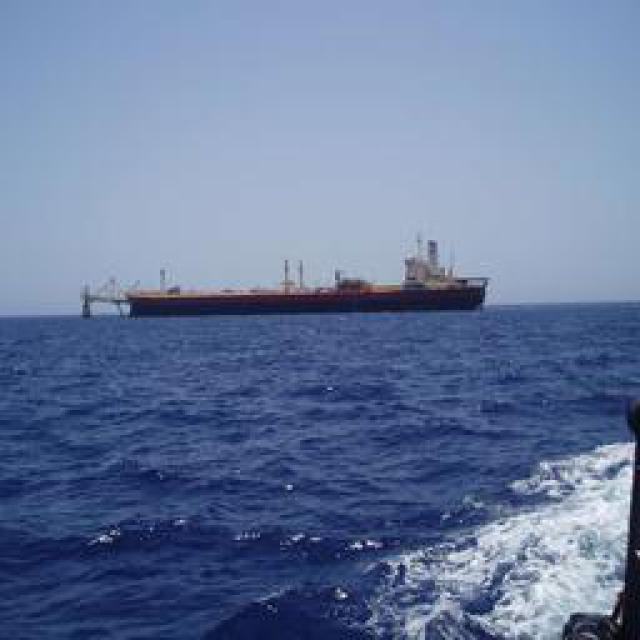Ship: (97, 242, 485, 315)
